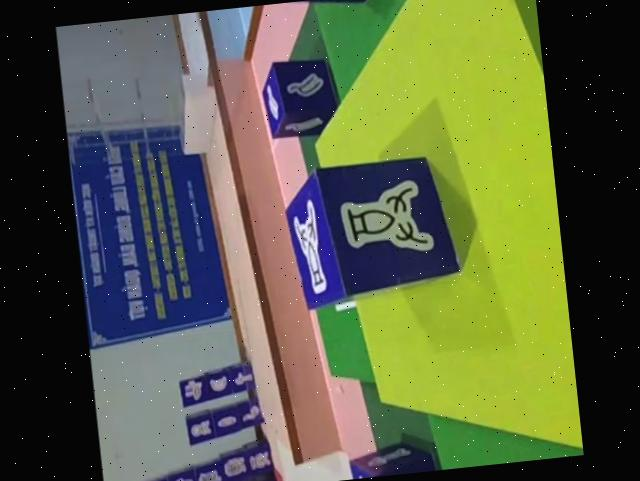R2 Real Blue: (281, 156, 468, 314), (262, 55, 346, 143), (347, 437, 448, 479)
